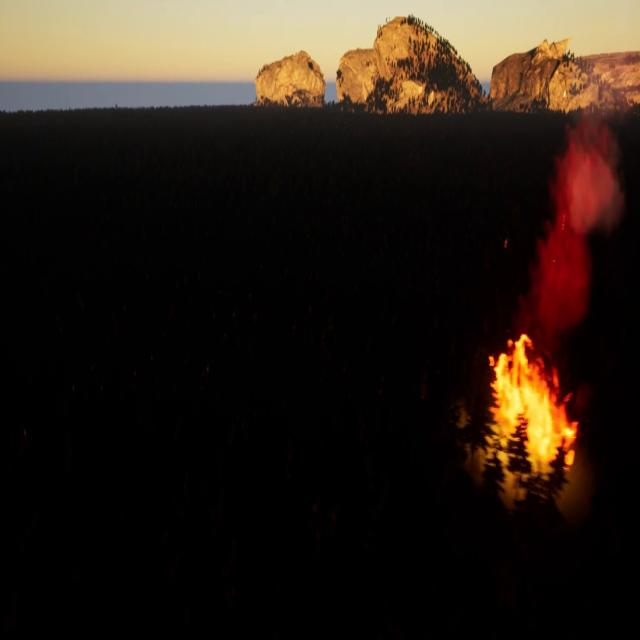fire: (483, 340, 581, 486)
smoke: (526, 115, 622, 326)
